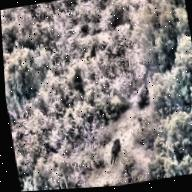boar: (130, 75, 155, 111), (105, 134, 128, 165)
